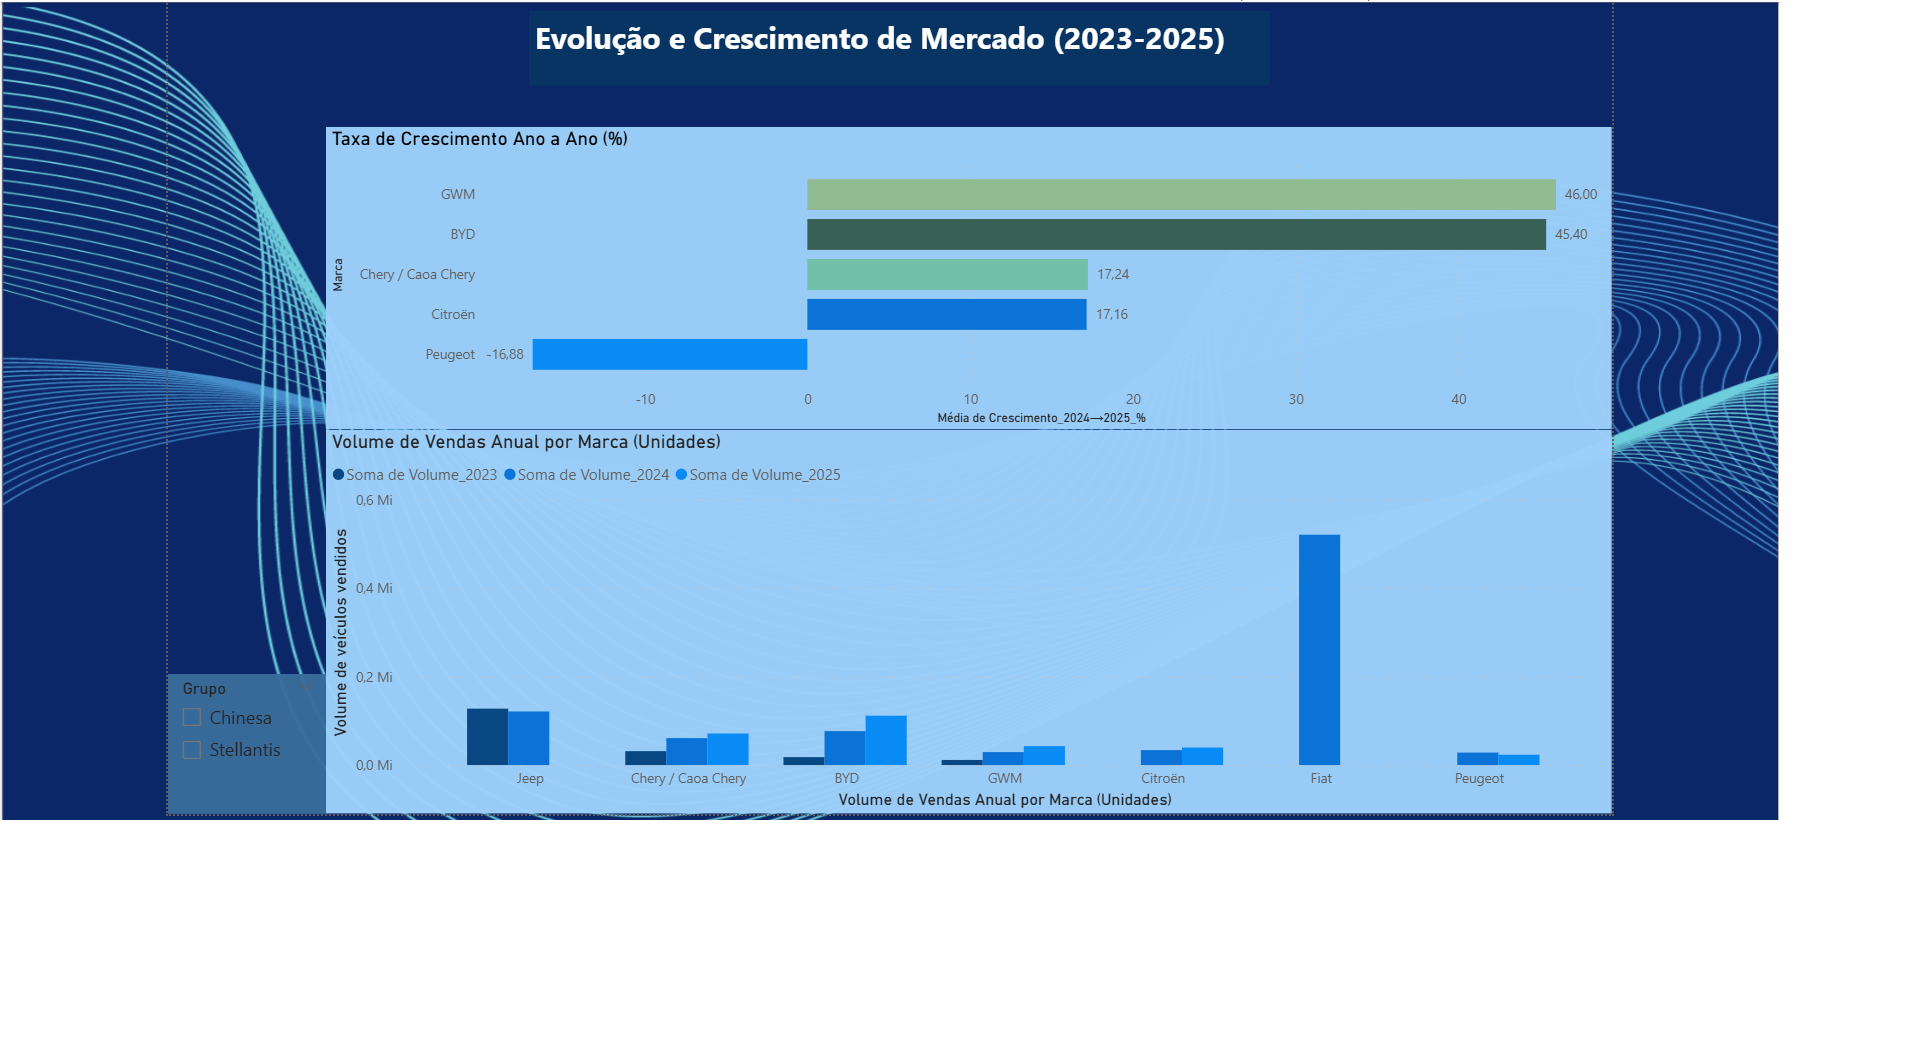

Layout of this report page (visuals, bound fields, positions):
{"tool":"powerbi","page":{"name":"Crescimento Ano a Ano","canvas":[1280,720],"ordinal":1},"visuals":[{"type":"slicer","fields":{"Values":["Dim_Marca.Grupo"]},"box":[0,596.2,140.1,123.5],"z":0},{"type":"textbox","box":[320,7.8,656.5,66.1],"z":1000},{"type":"clusteredColumnChart","title":"Volume de Vendas Anual por Marca (Unidades)","fields":{"Category":["Dim_Marca.Marca"],"Y":["Sum(Crescimento_YoY.Volume_2023)","Sum(Crescimento_YoY.Volume_2024)","Sum(Crescimento_YoY.Volume_2025)"]},"box":[140.1,379.3,1139.9,340.4],"z":2000},{"type":"barChart","title":"Taxa de Crescimento Ano a Ano (%)","fields":{"Category":["Dim_Marca.Marca"],"Y":["Avg(Crescimento_YoY.Crescimento_2024→2025_%)"]},"box":[140.1,110.9,1139.9,268.4],"z":3000}]}

Visuals, with their boxes on the page's 1280x720 design canvas (x1, y1, x2, y2). These are canvas units, not pixel positions in the 1920x1040 screenshot, which may show the page scaled, cropped or inside an application window:
slicer - Dim_Marca.Grupo: box(0, 596, 140, 720)
textbox: box(320, 8, 976, 74)
"Volume de Vendas Anual por Marca (Unidades)" clusteredColumnChart: box(140, 379, 1280, 720)
"Taxa de Crescimento Ano a Ano (%)" barChart: box(140, 111, 1280, 379)
